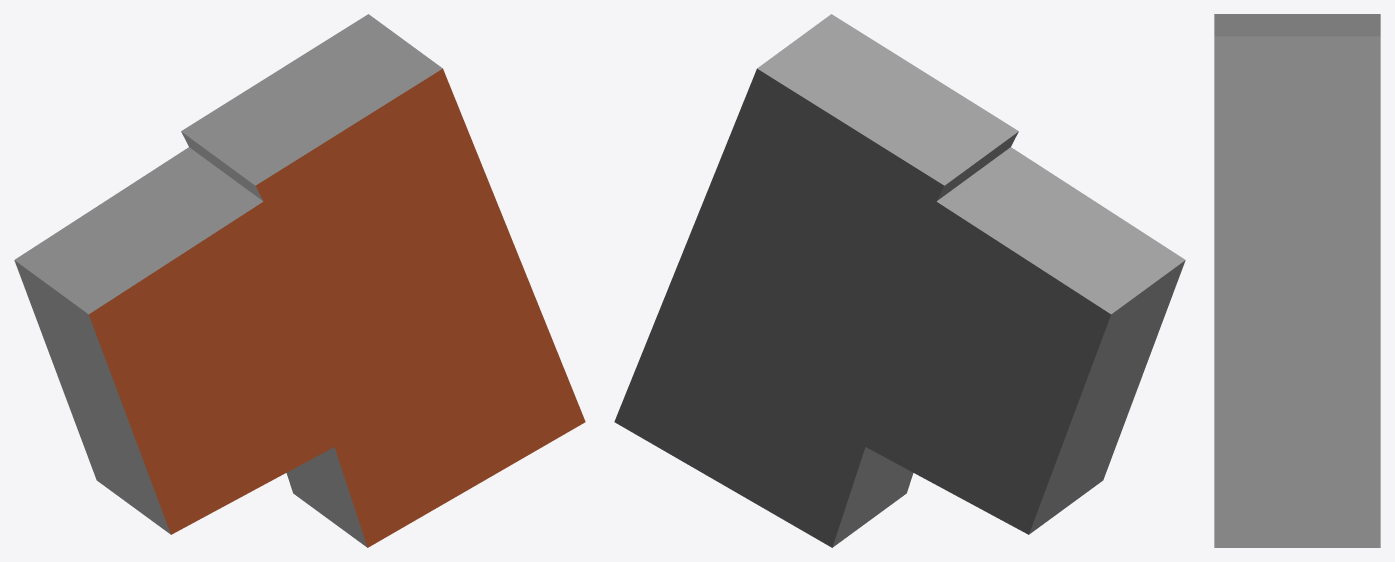
File: construction_2920_assumed_A_Casa_h6m.obj
3 views of the same model, side by side, from view 1: azimuth 30°, elevation 25°; view 2: azimuth 150°, elevation 25°; view 3: azimuth 270°, elevation 25° (orthographic). The views are drawn at different scales.
Parts seen in each view (by area): view 1: construction_2920_assumed_A_Casa; view 2: construction_2920_assumed_A_Casa; view 3: construction_2920_assumed_A_Casa.
Part boxes in pixels (left/top/right/bottom): construction_2920_assumed_A_Casa: left=14, top=14, right=585, bottom=547; construction_2920_assumed_A_Casa: left=614, top=14, right=1185, bottom=547; construction_2920_assumed_A_Casa: left=1214, top=14, right=1380, bottom=547.
Size of the model in its own units: 23.11 by 20.49 by 6.
